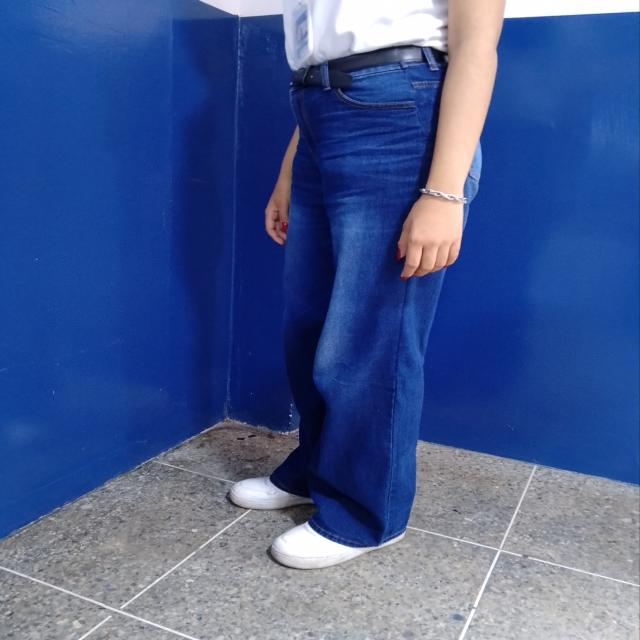pantalon_oscuro: (268, 60, 483, 548)
